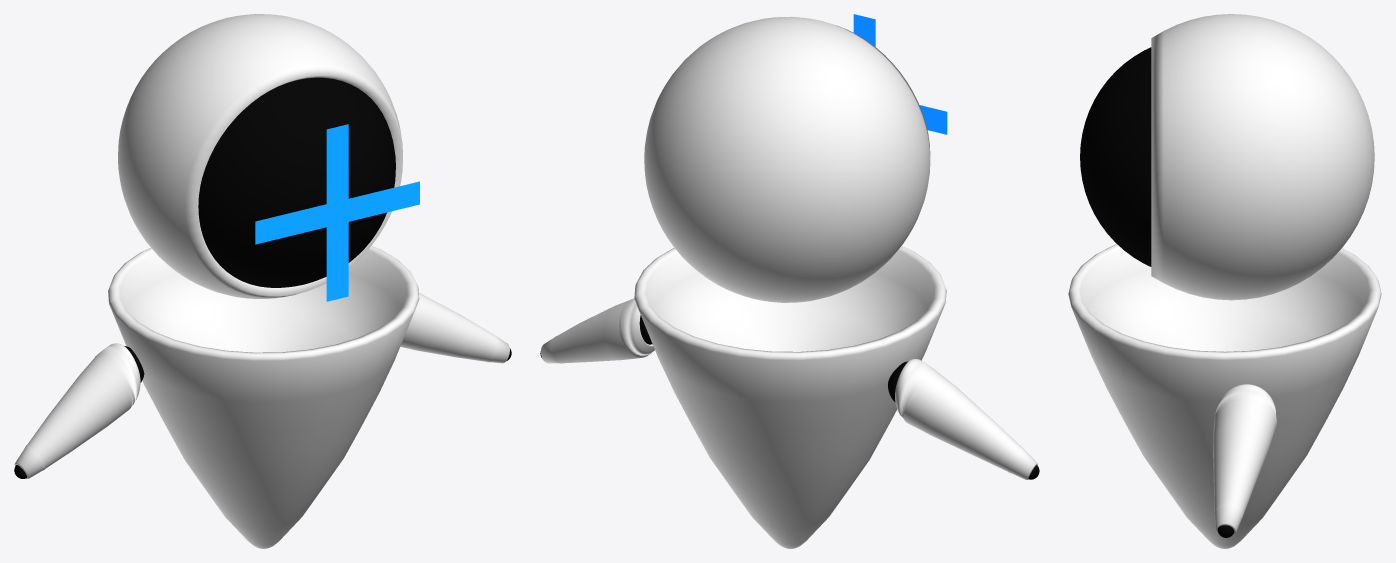
File: Mogi (1).glb
The picture shows the model from 3 angles, left to right: view 1: azimuth 30°, elevation 25°; view 2: azimuth 150°, elevation 25°; view 3: azimuth 270°, elevation 25°; orthographic projection.
Parts seen in each view (by area): view 1: Cylinder.001, Sphere, Sphere.001, Robot.002, Robot.003, Plane.001, Plane.002; view 2: Sphere, Cylinder.001, Robot.002, Robot.003; view 3: Sphere, Cylinder.001, Sphere.001, Robot.003.
Boxes of the visible parts, left/top/right/bottom form: Cylinder.001: left=108, top=245, right=419, bottom=548; Sphere: left=118, top=14, right=402, bottom=298; Sphere.001: left=198, top=77, right=395, bottom=287; Robot.002: left=14, top=343, right=144, bottom=478; Robot.003: left=400, top=293, right=511, bottom=363; Plane.001: left=255, top=181, right=419, bottom=244; Plane.002: left=326, top=124, right=348, bottom=301; Sphere: left=644, top=16, right=930, bottom=302; Cylinder.001: left=634, top=246, right=946, bottom=548; Robot.002: left=888, top=359, right=1039, bottom=479; Robot.003: left=540, top=298, right=654, bottom=363; Sphere: left=1151, top=14, right=1374, bottom=300; Cylinder.001: left=1068, top=244, right=1381, bottom=548; Sphere.001: left=1080, top=47, right=1151, bottom=266; Robot.003: left=1213, top=384, right=1276, bottom=537.
Bounding box in the file's own units: 4.01 × 4 × 2.19.
